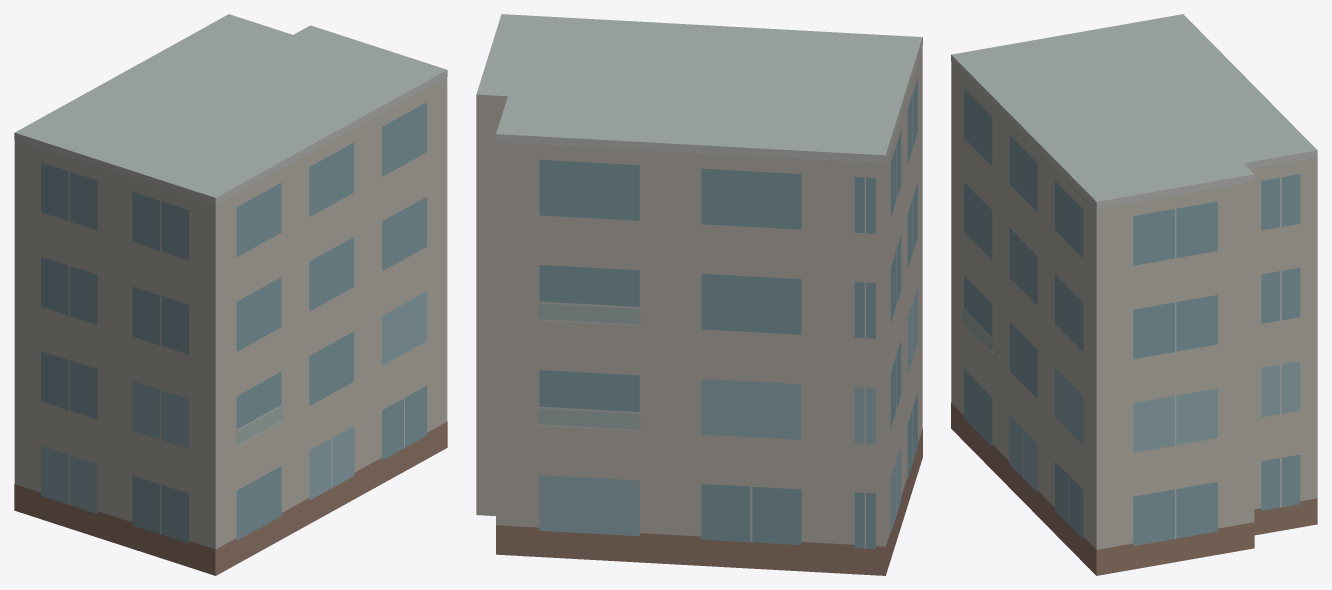
File: survey-upis-32936403.glb
3 renders of one model, left to right at view 1: azimuth 30°, elevation 25°; view 2: azimuth 150°, elevation 25°; view 3: azimuth 270°, elevation 25°, orthographic. The views are drawn at different scales.
Visible parts, largest first — view 1: survey-upis-32936403.tmp; view 2: survey-upis-32936403.tmp; view 3: survey-upis-32936403.tmp.
Boxes of the visible parts, bbox=[...] form: survey-upis-32936403.tmp: bbox=[14, 14, 447, 575]; survey-upis-32936403.tmp: bbox=[476, 14, 922, 575]; survey-upis-32936403.tmp: bbox=[951, 14, 1317, 575].
Size of the model in its own units: 13.69 by 12.7 by 11.29.
